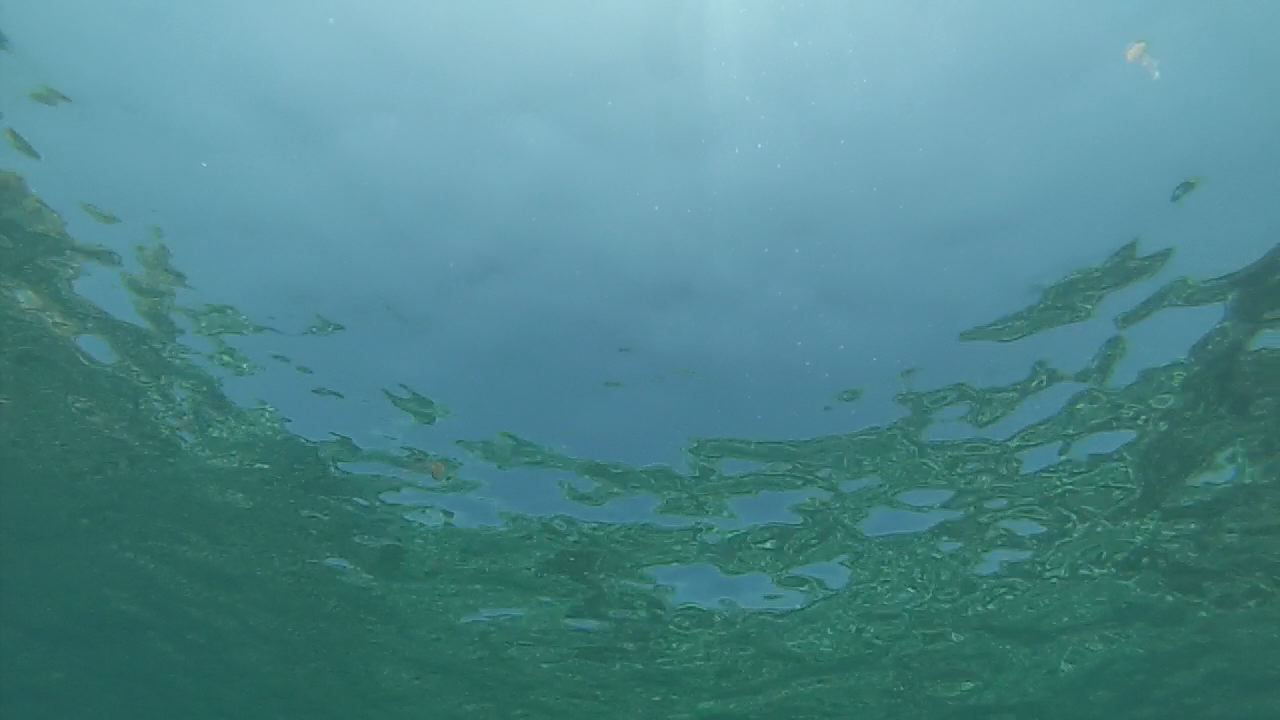pelagia: (1122, 32, 1171, 84), (398, 450, 452, 487)
